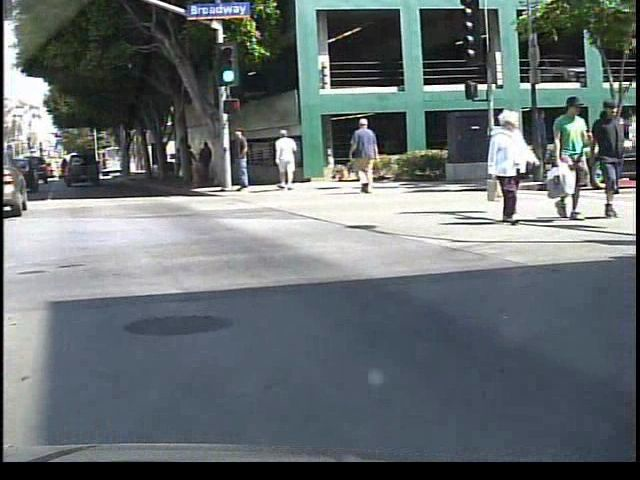person: (485, 110, 541, 227), (552, 97, 592, 223), (591, 100, 628, 220), (350, 118, 388, 194), (233, 122, 263, 202), (528, 106, 559, 181), (277, 126, 306, 194), (203, 138, 220, 184), (187, 142, 203, 187)
